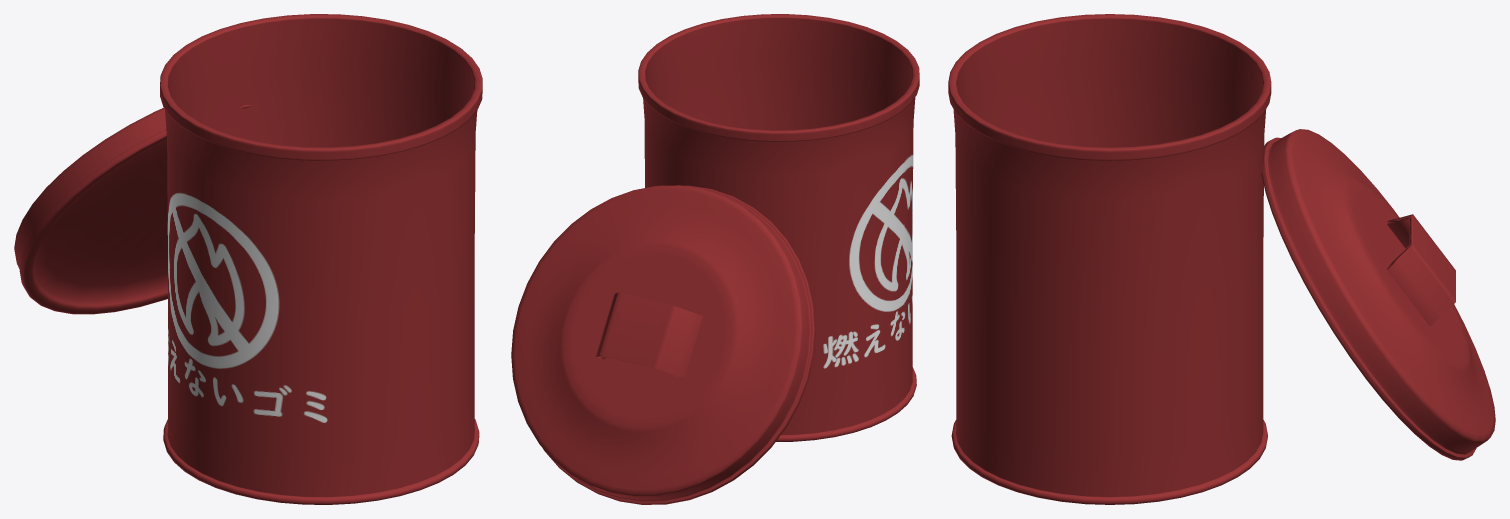
File: bin02.fbx
3 renders of one model, left to right at view 1: azimuth 30°, elevation 25°; view 2: azimuth 150°, elevation 25°; view 3: azimuth 270°, elevation 25°, orthographic. The views are drawn at different scales.
Visible parts, largest first — view 1: pCube1; view 2: pCube1; view 3: pCube1.
Part boxes in pixels (left/top/right/bottom): pCube1: left=14, top=14, right=482, bottom=504; pCube1: left=511, top=14, right=919, bottom=504; pCube1: left=948, top=14, right=1495, bottom=504.
Bounding box in the file's own units: 3.55 × 3.74 × 5.18.
